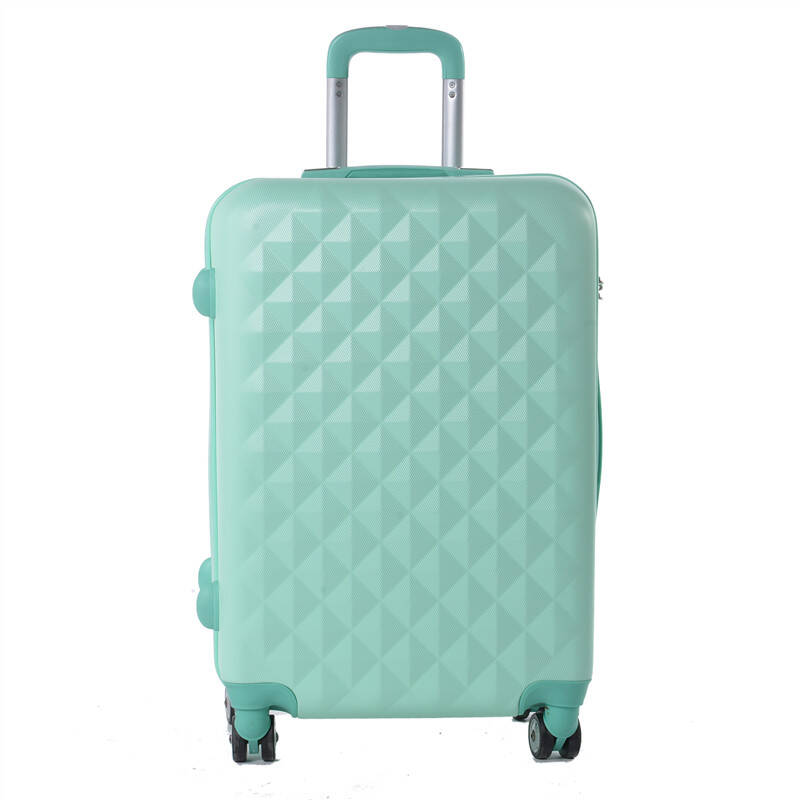luggage: (193, 46, 605, 763)
